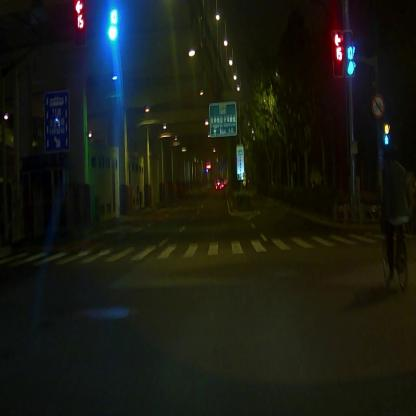Red Light: (72, 0, 86, 45), (332, 31, 345, 77)
